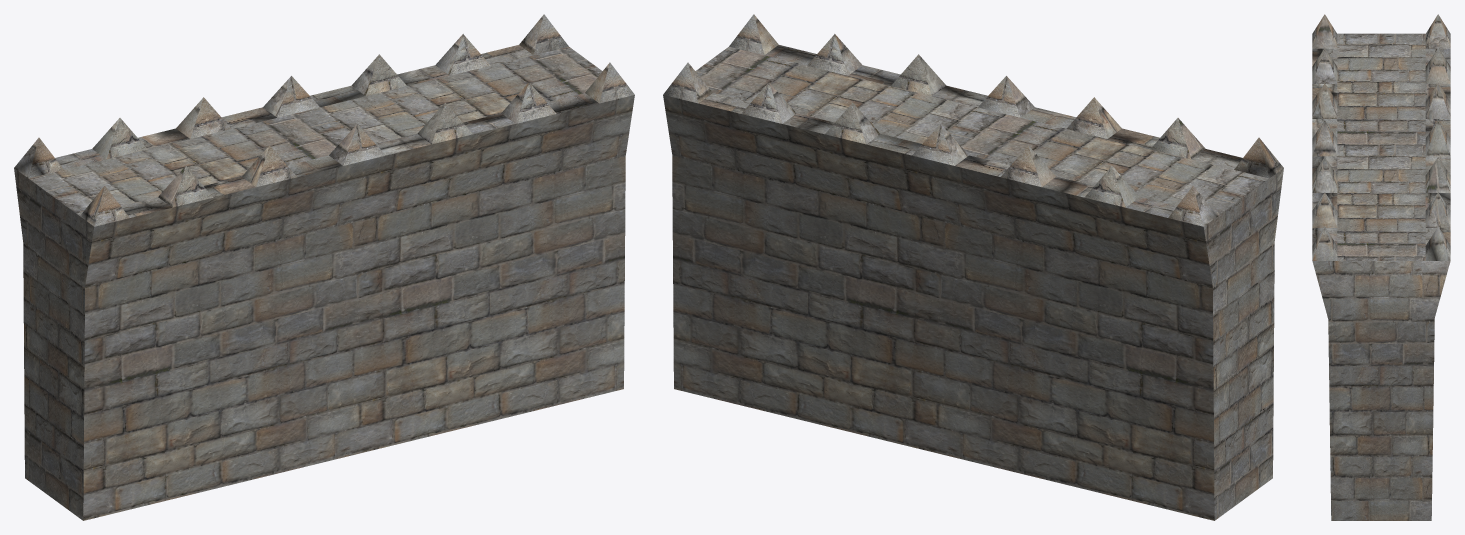
The model's file is Muro_de_castillo2.obj.
3 renders of one model, left to right at view 1: azimuth 30°, elevation 25°; view 2: azimuth 150°, elevation 25°; view 3: azimuth 270°, elevation 25°, orthographic. The views are drawn at different scales.
Visible parts, largest first — view 1: pCube1_Untitled.001; view 2: pCube1_Untitled.001; view 3: pCube1_Untitled.001.
Boxes of the visible parts, box(x1,y1,x2,y2) form: pCube1_Untitled.001: box(14, 14, 634, 520); pCube1_Untitled.001: box(663, 14, 1283, 520); pCube1_Untitled.001: box(1312, 14, 1450, 520).
Bounding box in the file's own units: 1.34 × 0.7884 × 0.3437.
Materials: 1 (1 with a texture image).
